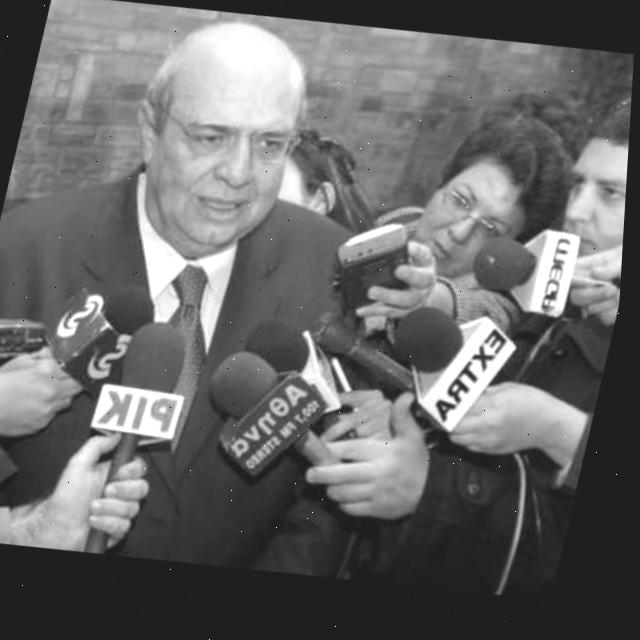face: (122, 30, 324, 263), (391, 135, 551, 300), (540, 101, 631, 291)
